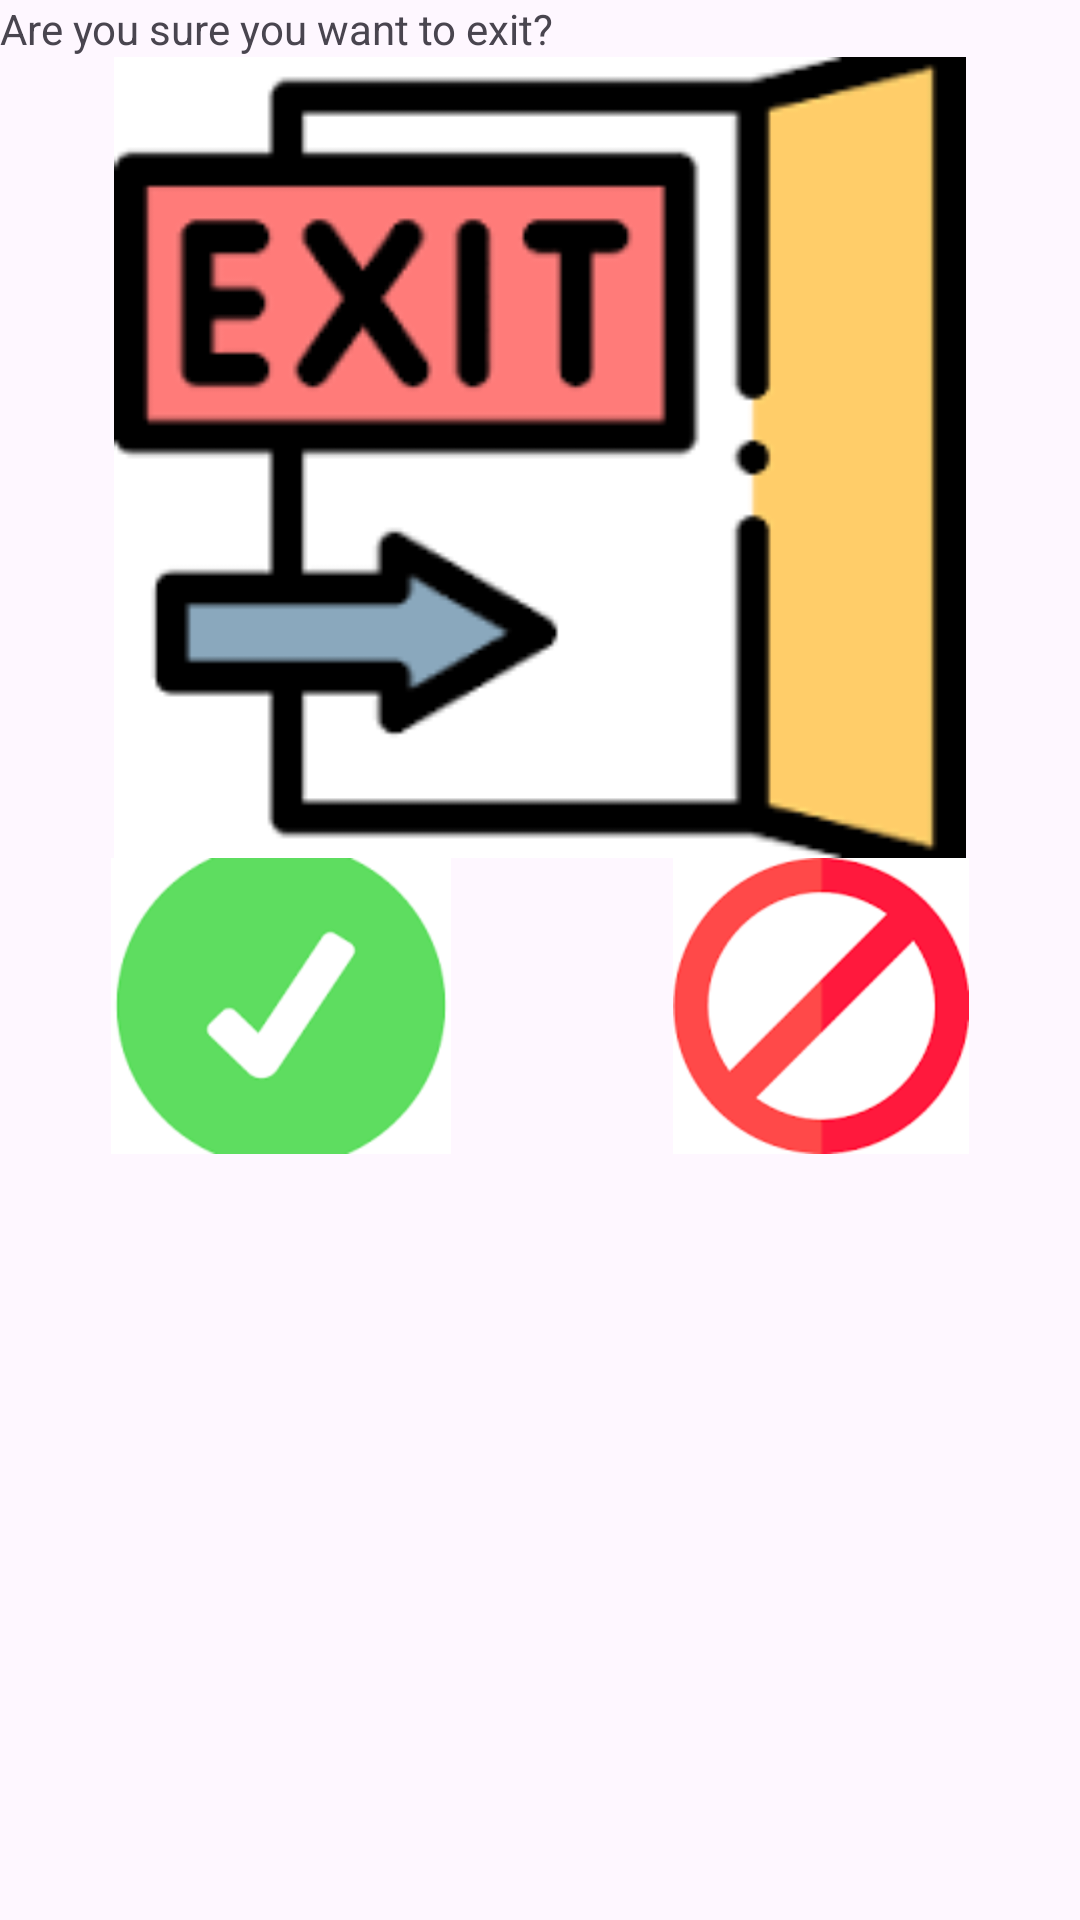

Where icons sit on this 1080x1920 app screen, as (x1, y1, x2, y2):
cancel: (673, 858, 969, 1154)
yes: (116, 858, 446, 1154)
